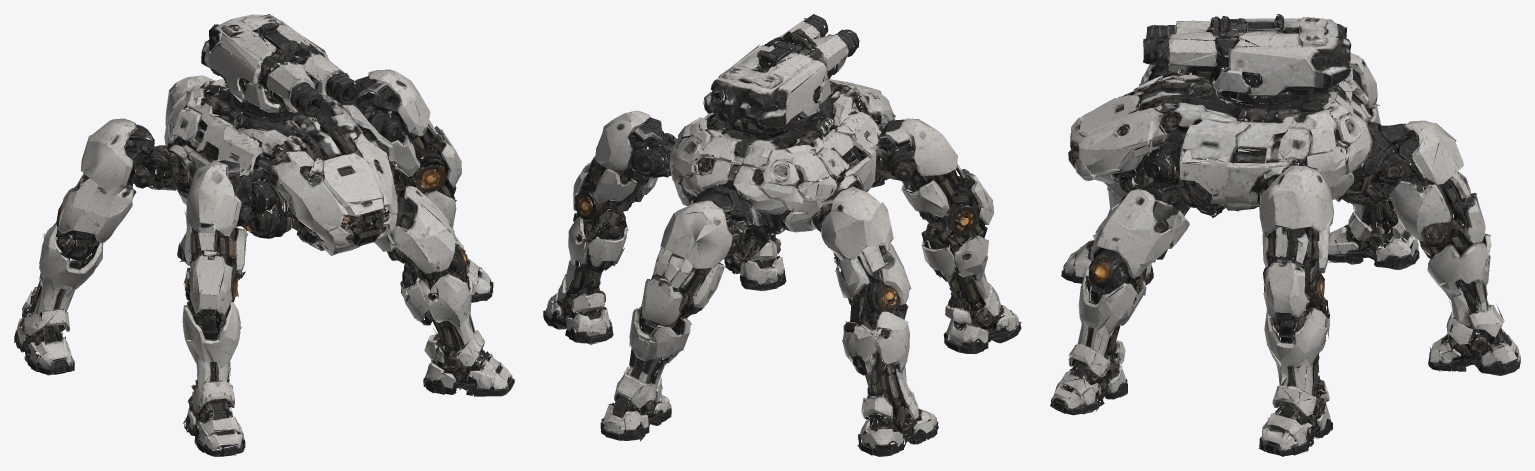
The model's file is nx-coloso-patas.glb.
3 views of the same model, side by side, from view 1: azimuth 30°, elevation 25°; view 2: azimuth 150°, elevation 25°; view 3: azimuth 270°, elevation 25° (orthographic). The views are drawn at different scales.
Visible parts, largest first — view 1: Mesh_0; view 2: Mesh_0; view 3: Mesh_0.
Boxes of the visible parts, box(x1,y1,x2,y2) form: Mesh_0: box(14, 14, 514, 456); Mesh_0: box(543, 14, 1021, 456); Mesh_0: box(1050, 14, 1520, 456).
Bounding box in the file's own units: 1.9 × 1.37 × 1.77.
1 material, 1 textured.
